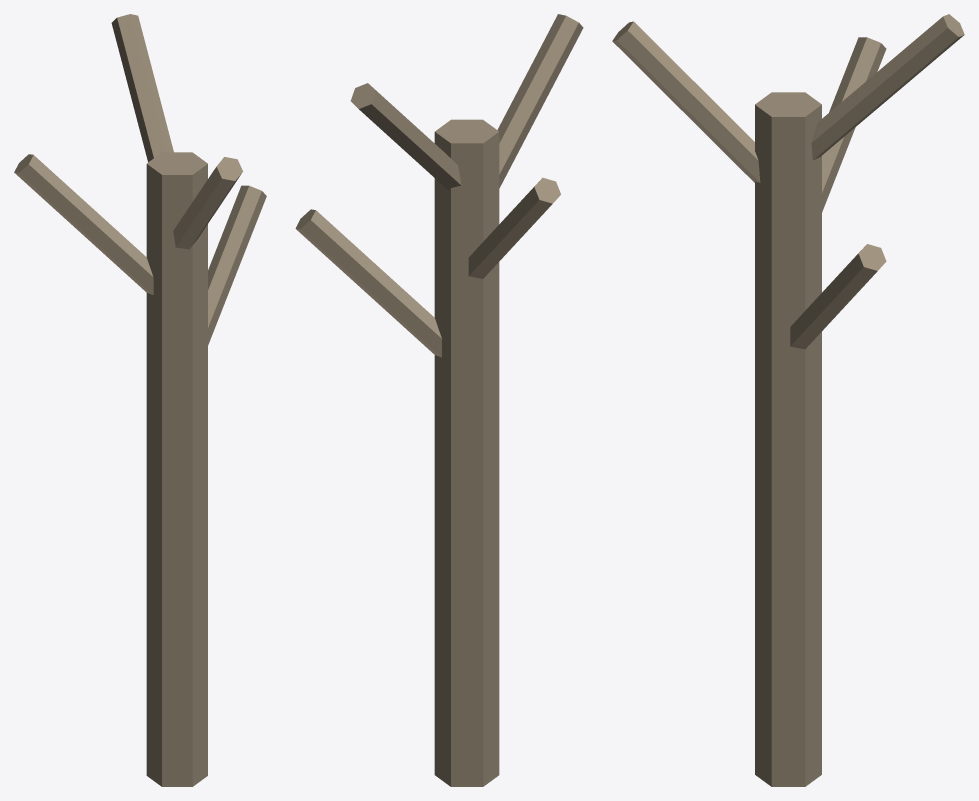
The model's file is Tree_Dead.fbx.
The picture shows the model from 3 angles, left to right: view 1: azimuth 30°, elevation 25°; view 2: azimuth 150°, elevation 25°; view 3: azimuth 270°, elevation 25°; orthographic projection. The views are drawn at different scales.
Visible parts, largest first — view 1: Tree_Dead; view 2: Tree_Dead; view 3: Tree_Dead.
Part boxes in pixels (x1,y1,x2,y2): Tree_Dead: [14, 14, 266, 786]; Tree_Dead: [295, 14, 583, 786]; Tree_Dead: [612, 14, 964, 786].
Size of the model in its own units: 0.9326 by 2.53 by 1.05.
